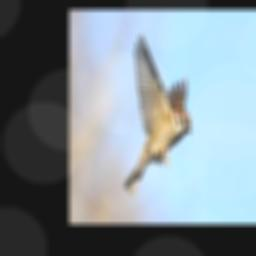Sparrow: (124, 34, 191, 196)
